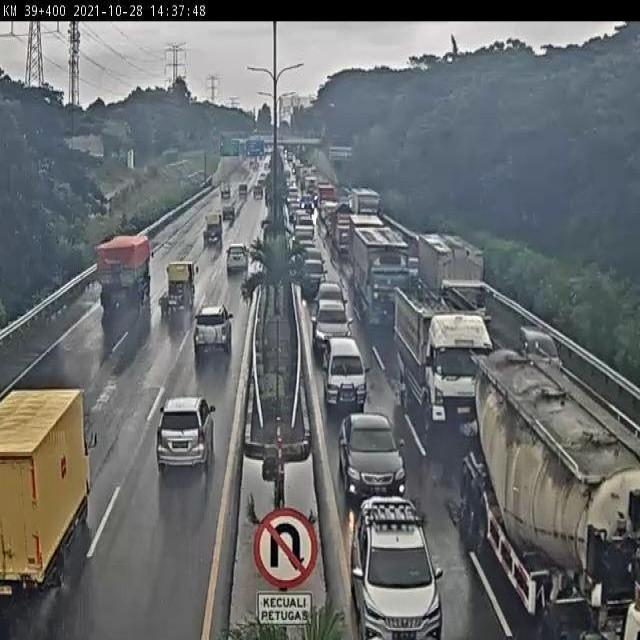big truck: (453, 325, 640, 640), (0, 372, 102, 617), (388, 275, 510, 469), (413, 224, 506, 340), (351, 221, 422, 336), (91, 218, 157, 318), (155, 253, 201, 324), (330, 204, 363, 259), (199, 209, 229, 252), (346, 188, 382, 223)
car: (343, 494, 455, 640), (151, 388, 222, 489), (334, 411, 415, 498), (317, 334, 379, 418), (190, 302, 240, 362), (312, 297, 360, 352), (298, 258, 330, 306), (225, 236, 256, 285), (313, 277, 349, 316), (319, 199, 350, 236), (303, 245, 328, 263), (294, 225, 316, 243), (249, 181, 265, 204), (235, 181, 249, 204), (298, 239, 321, 253)
small truck: (214, 168, 236, 204)
